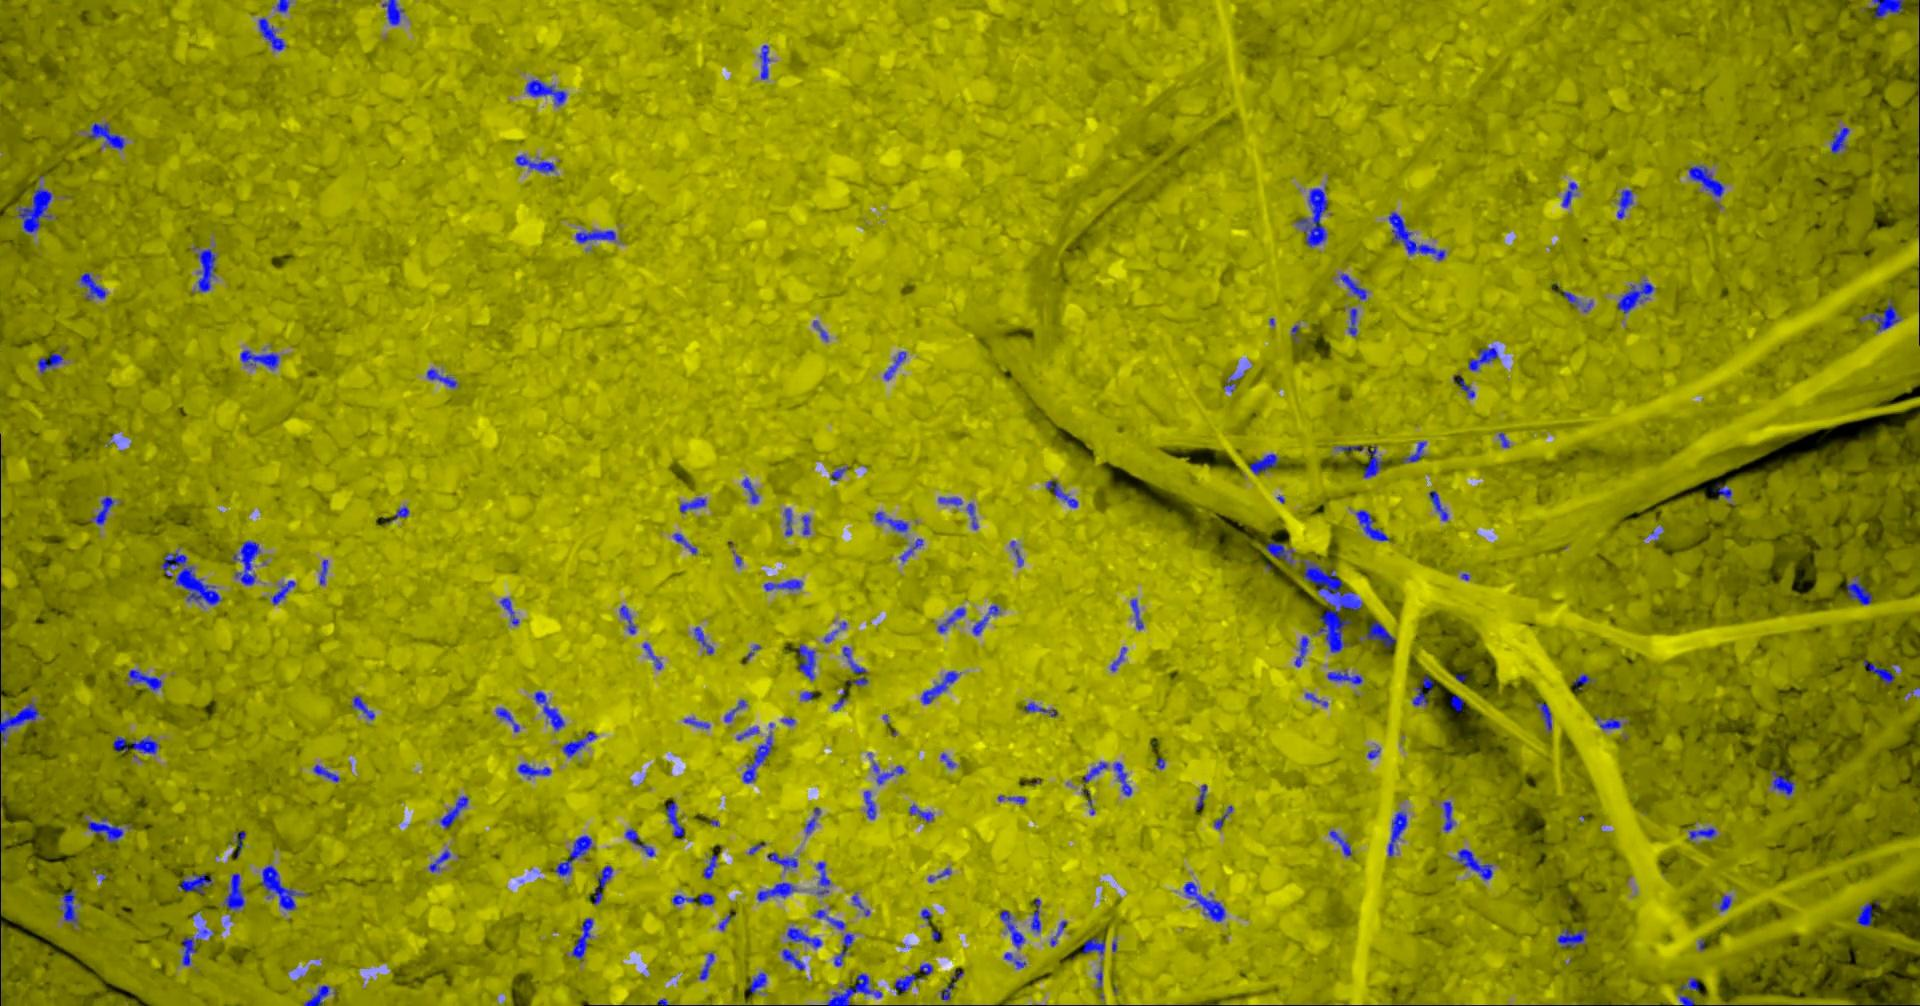ant: (1388, 211, 1444, 260), (260, 864, 307, 909), (1297, 185, 1327, 246), (825, 973, 881, 1005), (1183, 882, 1225, 921), (0, 702, 39, 743), (554, 835, 593, 875), (18, 185, 51, 232), (742, 732, 772, 782), (1858, 298, 1900, 332), (919, 669, 960, 702), (232, 540, 260, 586), (1617, 279, 1653, 312), (533, 691, 564, 730), (182, 929, 213, 965), (1457, 848, 1492, 880), (524, 79, 566, 105), (1688, 165, 1723, 196), (1355, 509, 1389, 540), (88, 815, 123, 843), (88, 122, 124, 149), (439, 795, 469, 828), (258, 17, 286, 50), (999, 909, 1023, 948), (563, 730, 596, 757), (1387, 810, 1406, 856), (971, 605, 999, 635), (623, 828, 654, 856), (571, 917, 592, 959), (112, 735, 159, 753), (196, 248, 215, 291), (1046, 480, 1077, 507), (1364, 621, 1396, 647), (88, 495, 114, 525), (240, 349, 278, 370), (756, 882, 796, 901), (1862, 659, 1893, 683), (593, 865, 612, 904), (223, 873, 244, 909), (1468, 347, 1498, 371), (872, 761, 904, 784), (126, 669, 161, 690), (786, 927, 822, 948), (1338, 273, 1366, 298), (937, 607, 965, 633), (516, 154, 554, 171), (80, 272, 105, 298), (1363, 445, 1383, 478), (874, 511, 907, 531), (179, 873, 212, 893), (833, 934, 853, 967), (883, 351, 905, 380), (940, 969, 963, 998), (1845, 579, 1870, 605), (842, 647, 866, 673), (1265, 541, 1293, 564), (797, 644, 815, 680), (1112, 762, 1131, 795), (1412, 674, 1432, 705), (1770, 770, 1794, 795), (1855, 901, 1879, 926), (665, 801, 683, 836), (60, 889, 77, 923), (813, 909, 844, 929), (1556, 929, 1587, 948), (1870, 0, 1903, 18), (270, 580, 295, 605), (350, 695, 375, 719), (425, 368, 456, 387), (1330, 829, 1351, 856), (574, 229, 615, 243), (1250, 453, 1277, 474), (1429, 490, 1448, 520), (1451, 373, 1474, 398), (495, 708, 519, 730), (381, 0, 403, 25), (37, 352, 62, 373), (1401, 441, 1426, 462), (1082, 761, 1107, 782), (499, 597, 518, 625), (693, 626, 712, 654), (643, 641, 662, 669), (672, 892, 714, 904), (899, 539, 922, 561), (781, 948, 804, 970), (428, 848, 450, 873), (303, 984, 329, 1005), (517, 763, 550, 779), (815, 861, 830, 894), (1327, 669, 1363, 683), (673, 532, 696, 554), (724, 699, 745, 721), (1830, 127, 1849, 152), (766, 852, 797, 868), (1534, 701, 1550, 730), (312, 763, 339, 781), (894, 973, 921, 991), (618, 605, 635, 633), (1023, 702, 1057, 716), (1213, 805, 1232, 829), (1617, 189, 1632, 218), (1561, 180, 1577, 207), (1049, 920, 1065, 946), (742, 478, 758, 503), (908, 804, 933, 821), (1294, 636, 1308, 666), (805, 807, 820, 833), (763, 579, 803, 589), (1110, 647, 1126, 671), (1592, 715, 1620, 729), (698, 951, 712, 979), (679, 497, 705, 512), (748, 972, 766, 993), (1081, 937, 1103, 954), (1010, 540, 1023, 567), (231, 831, 245, 857), (1130, 600, 1143, 629), (702, 854, 717, 878), (1003, 951, 1025, 968), (1688, 827, 1716, 840), (759, 44, 770, 79), (1557, 291, 1580, 306), (1030, 898, 1040, 932), (863, 790, 875, 819), (1443, 801, 1454, 831), (1223, 373, 1241, 391), (1710, 483, 1731, 498), (737, 727, 758, 741), (1347, 307, 1357, 337), (683, 716, 709, 728), (1195, 784, 1206, 809), (1573, 673, 1591, 688), (966, 503, 977, 528), (1677, 977, 1698, 989), (783, 508, 792, 535), (830, 466, 847, 480), (319, 559, 328, 584), (1450, 694, 1463, 711), (392, 506, 408, 520), (997, 795, 1025, 803), (938, 497, 961, 506), (1718, 895, 1731, 911), (918, 963, 932, 976), (801, 514, 810, 533), (1677, 995, 1694, 1005), (276, 0, 290, 11), (1335, 445, 1363, 450)
